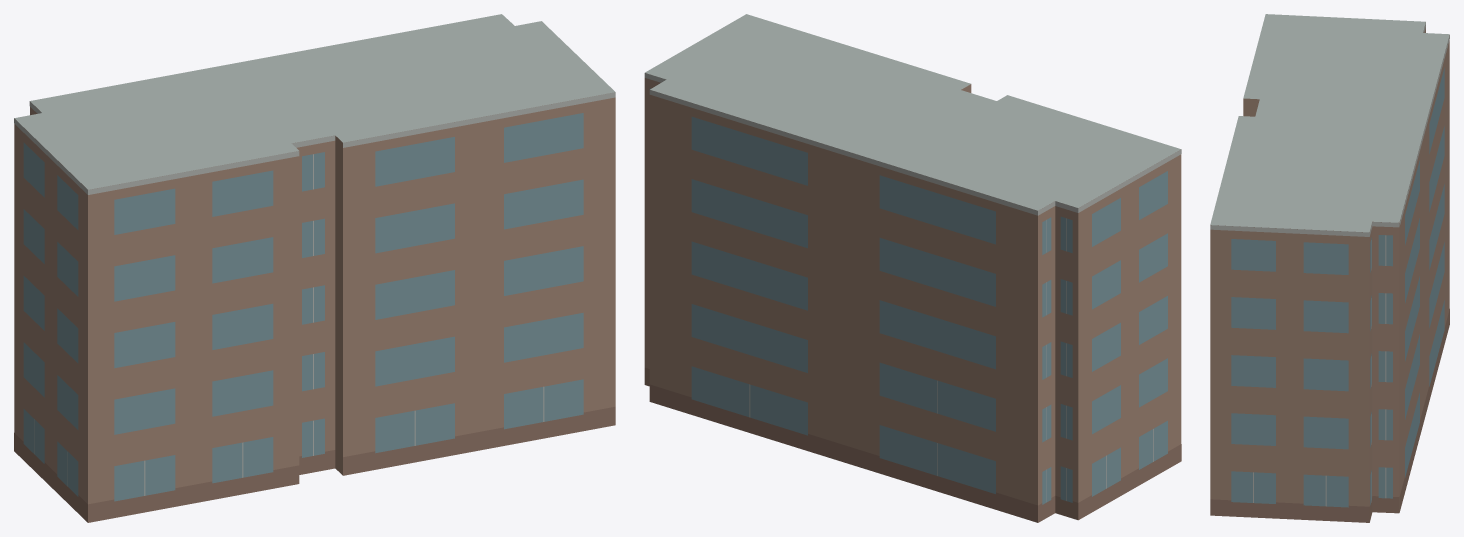
File: survey-upis-32957485.glb
The picture shows the model from 3 angles, left to right: view 1: azimuth 30°, elevation 25°; view 2: azimuth 150°, elevation 25°; view 3: azimuth 270°, elevation 25°; orthographic projection. The views are drawn at different scales.
Visible parts, largest first — view 1: survey-upis-32957485.tmp; view 2: survey-upis-32957485.tmp; view 3: survey-upis-32957485.tmp.
Part boxes in pixels (x1=…): survey-upis-32957485.tmp: x1=14, y1=14, x2=615, y2=522; survey-upis-32957485.tmp: x1=644, y1=14, x2=1181, y2=522; survey-upis-32957485.tmp: x1=1210, y1=14, x2=1449, y2=522.
Size of the model in its own units: 24.85 by 15.4 by 11.53.
